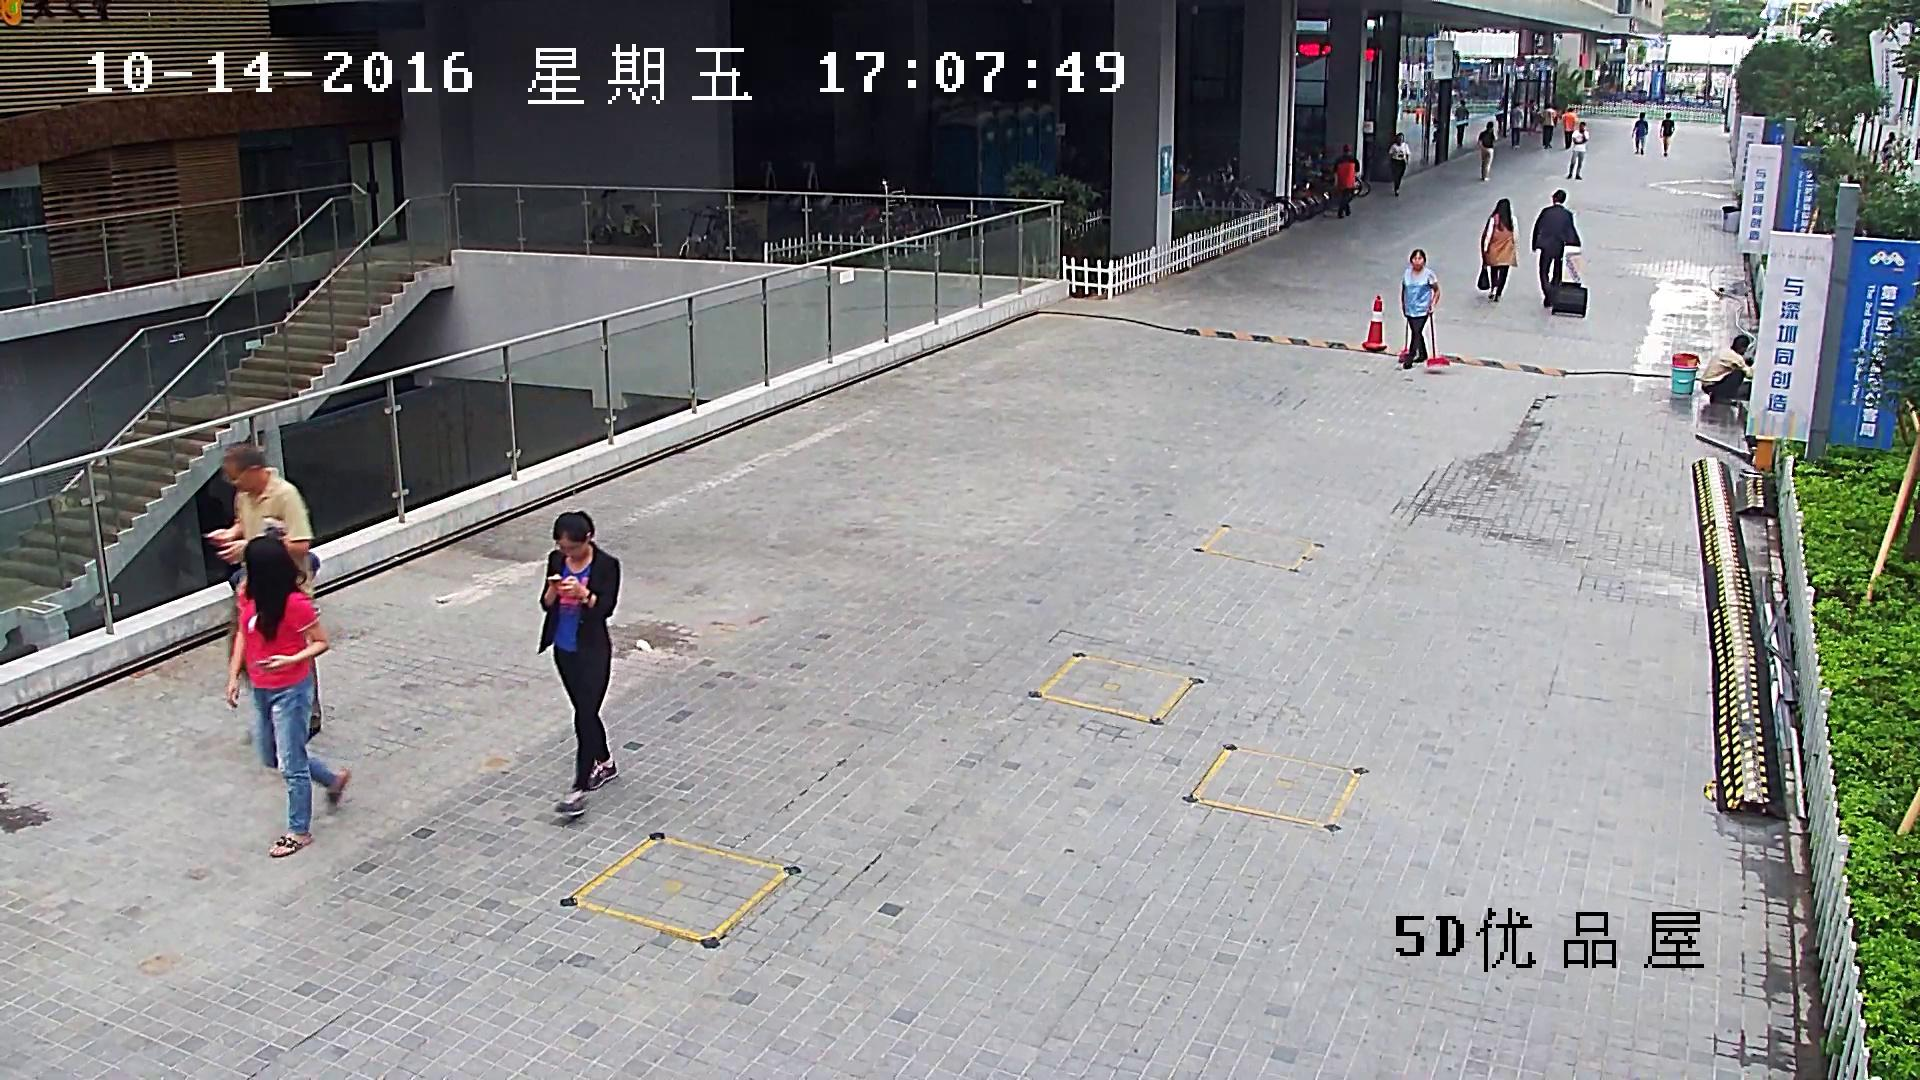person: (225, 536, 351, 857), (204, 442, 322, 741), (535, 509, 620, 817), (1531, 189, 1588, 317), (1397, 247, 1451, 371), (1532, 189, 1581, 308), (1476, 197, 1519, 303), (1401, 248, 1439, 369), (1700, 334, 1755, 406), (1333, 143, 1359, 218), (1386, 132, 1411, 196), (1565, 122, 1589, 180), (1477, 120, 1498, 181), (1540, 103, 1556, 149), (1454, 98, 1469, 148), (1632, 111, 1648, 155), (1659, 112, 1674, 158), (1510, 103, 1523, 152), (1562, 106, 1577, 149), (1494, 96, 1508, 138), (1528, 98, 1537, 136)
